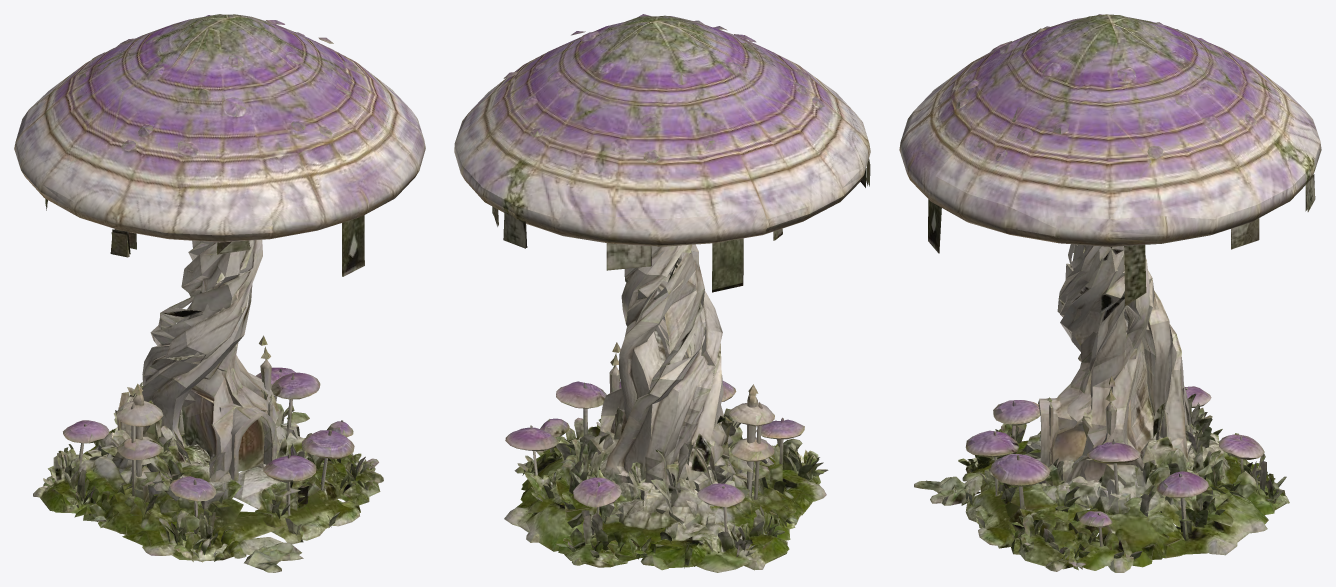
The model's file is The_Enchanted_Mushroo.glb.
The picture shows the model from 3 angles, left to right: view 1: azimuth 30°, elevation 25°; view 2: azimuth 150°, elevation 25°; view 3: azimuth 270°, elevation 25°; orthographic projection. The views are drawn at different scales.
Visible parts, largest first — view 1: The_Enchanted_Mushroo; view 2: The_Enchanted_Mushroo; view 3: The_Enchanted_Mushroo.
Boxes of the visible parts, box(x1,y1,x2,y2) form: The_Enchanted_Mushroo: box(14, 14, 425, 572); The_Enchanted_Mushroo: box(454, 14, 870, 572); The_Enchanted_Mushroo: box(899, 14, 1321, 572).
Size of the model in its own units: 0.7852 by 0.998 by 0.7832.
1 material, 1 textured.
